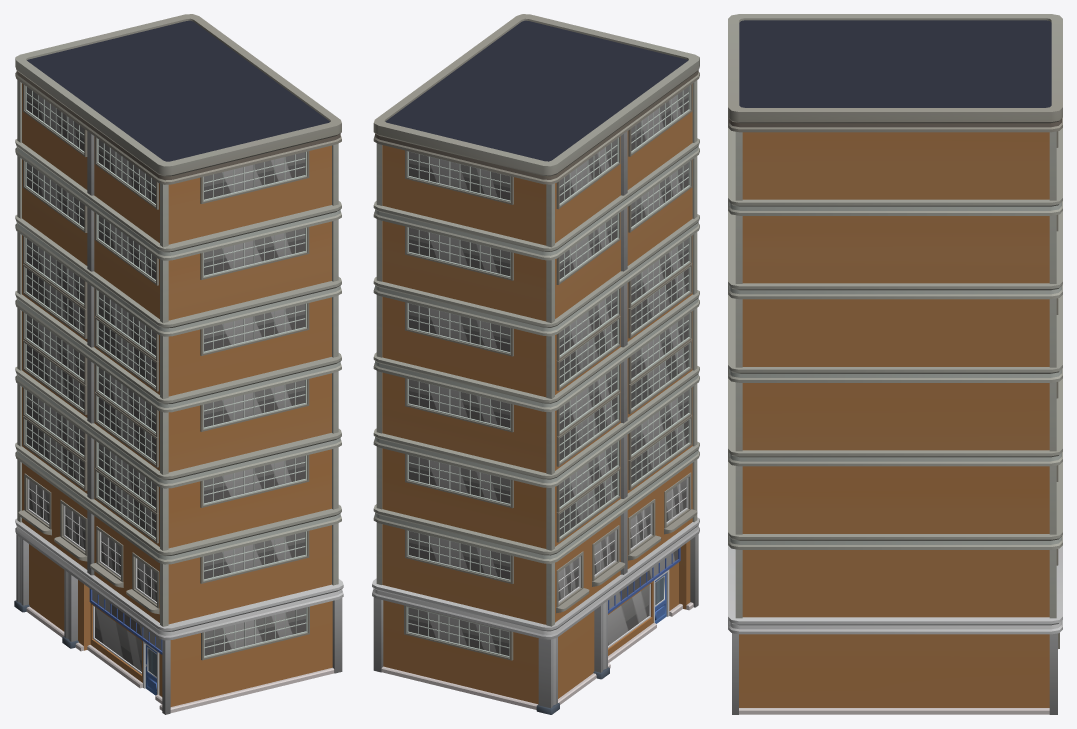
Rendered from Building_11_5_H.glb.
The picture shows the model from 3 angles, left to right: view 1: azimuth 30°, elevation 25°; view 2: azimuth 150°, elevation 25°; view 3: azimuth 270°, elevation 25°; orthographic projection. The views are drawn at different scales.
Visible parts, largest first — view 1: Building_11_5_H; view 2: Building_11_5_H; view 3: Building_11_5_H.
Boxes of the visible parts, x1,y1,x2,y2 form: Building_11_5_H: (14,14,343,714); Building_11_5_H: (372,14,699,714); Building_11_5_H: (728,14,1062,714).
Size of the model in its own units: 8.27 by 23.14 by 11.63.
3 materials, 3 textured.
